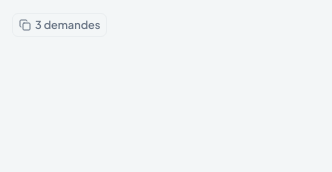
Test: DuplicateBadge › signale l’échec au lieu de faire croire à un archivage
Click the button with aria-label "archiver cette demande". click: (60, 25)
box: [12,13,107,37]
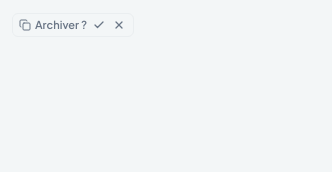
Click the button named "archiver cette demande". click: (99, 25)
box: [91,17,107,33]
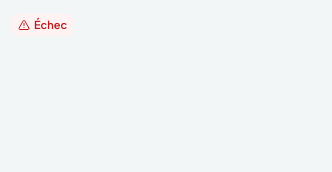
Expected: the button "Échec" is shown, [12,14,73,36]
